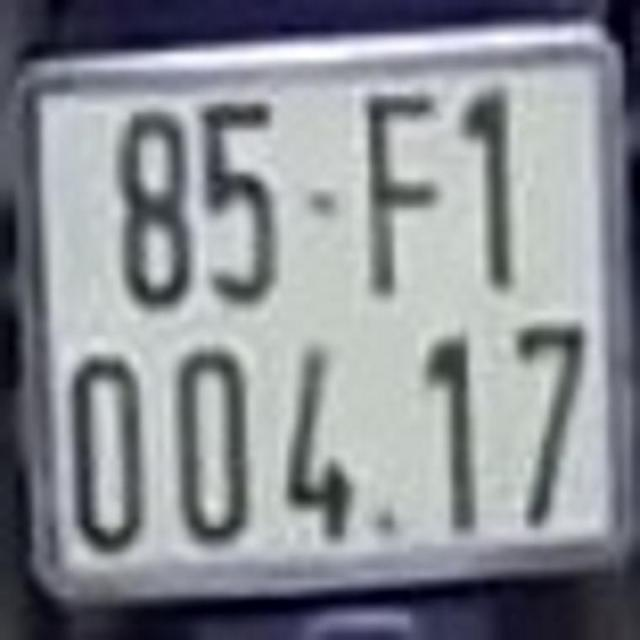0: (69, 351, 150, 553), (178, 351, 248, 539)
1: (423, 332, 489, 524), (464, 74, 519, 281)
4: (283, 324, 362, 540)
5: (200, 101, 283, 298)
7: (503, 315, 588, 527)
8: (117, 103, 196, 304)
F: (365, 96, 443, 299)
